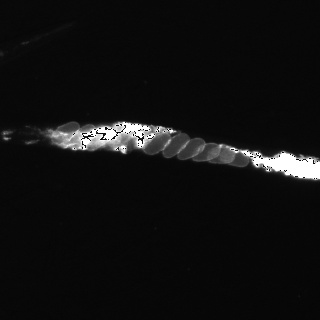embryo: (51, 121, 79, 147), (69, 124, 97, 149), (86, 126, 112, 151), (162, 133, 189, 157), (218, 147, 249, 166), (177, 138, 205, 159), (206, 144, 235, 164), (110, 124, 132, 150), (143, 133, 170, 154), (191, 143, 220, 161)
